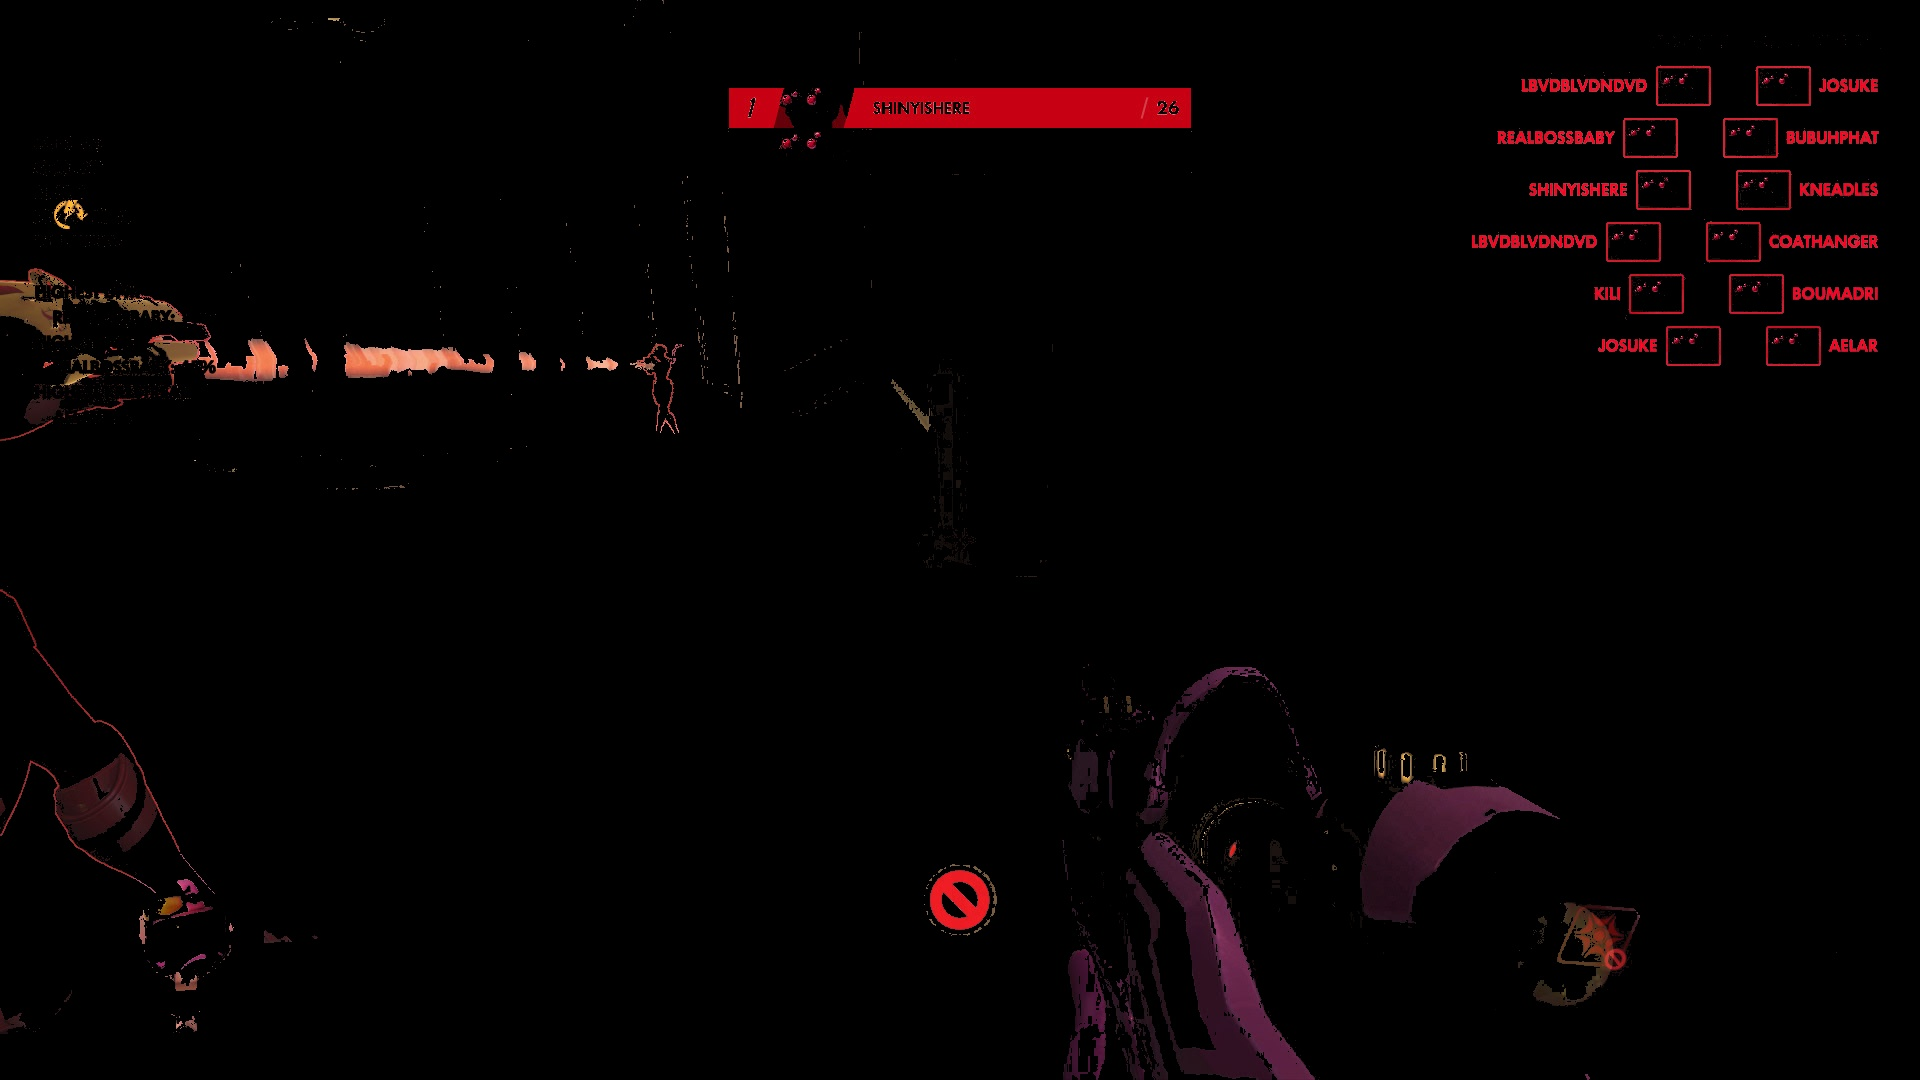widowmaker: (1, 284, 302, 996), (641, 343, 680, 451)
